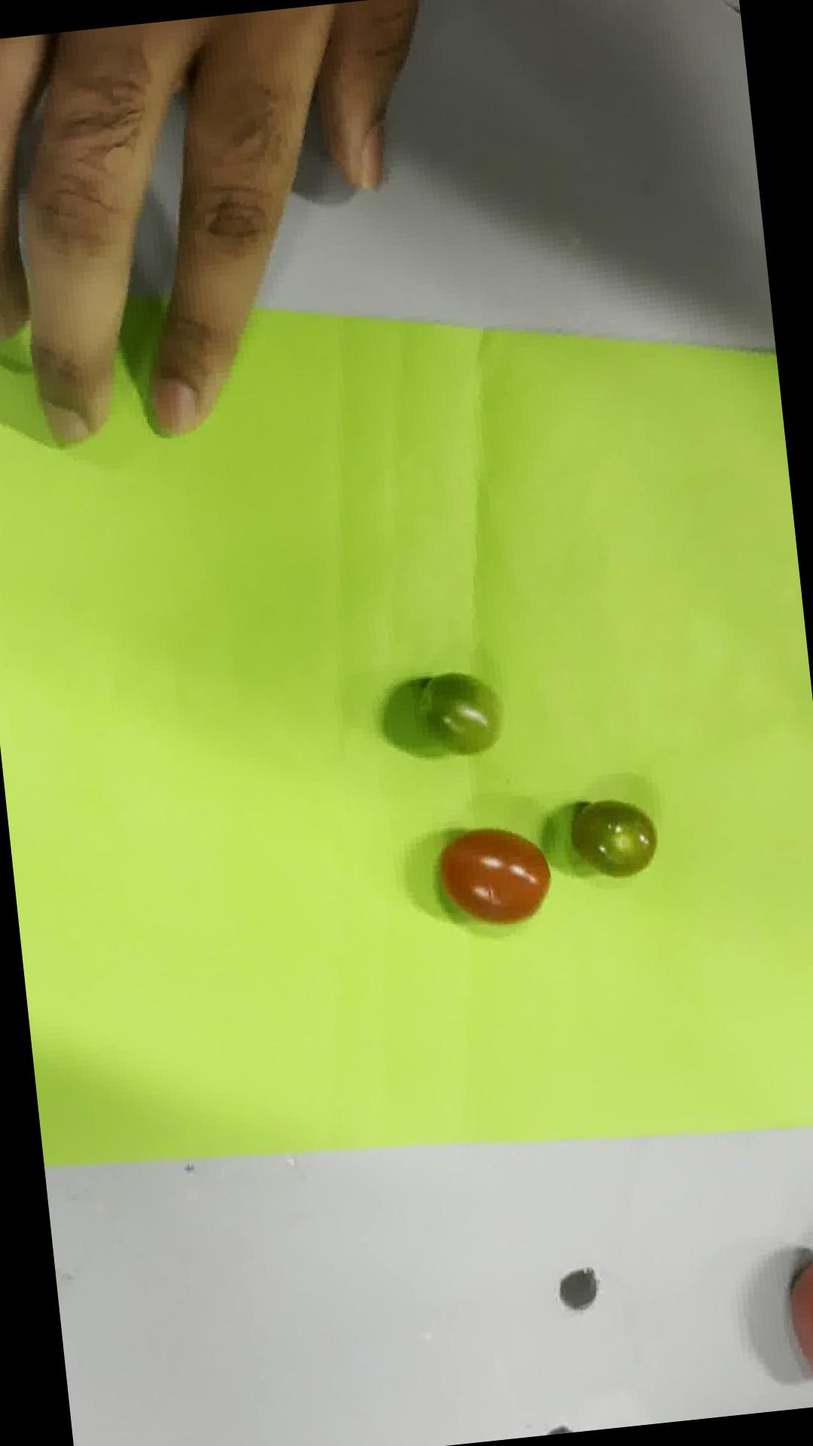green_cherry_tomato: (421, 673, 502, 755)
red_cherry_tomato: (439, 828, 550, 924)
yellow_cherry_tomato: (571, 800, 657, 877)
